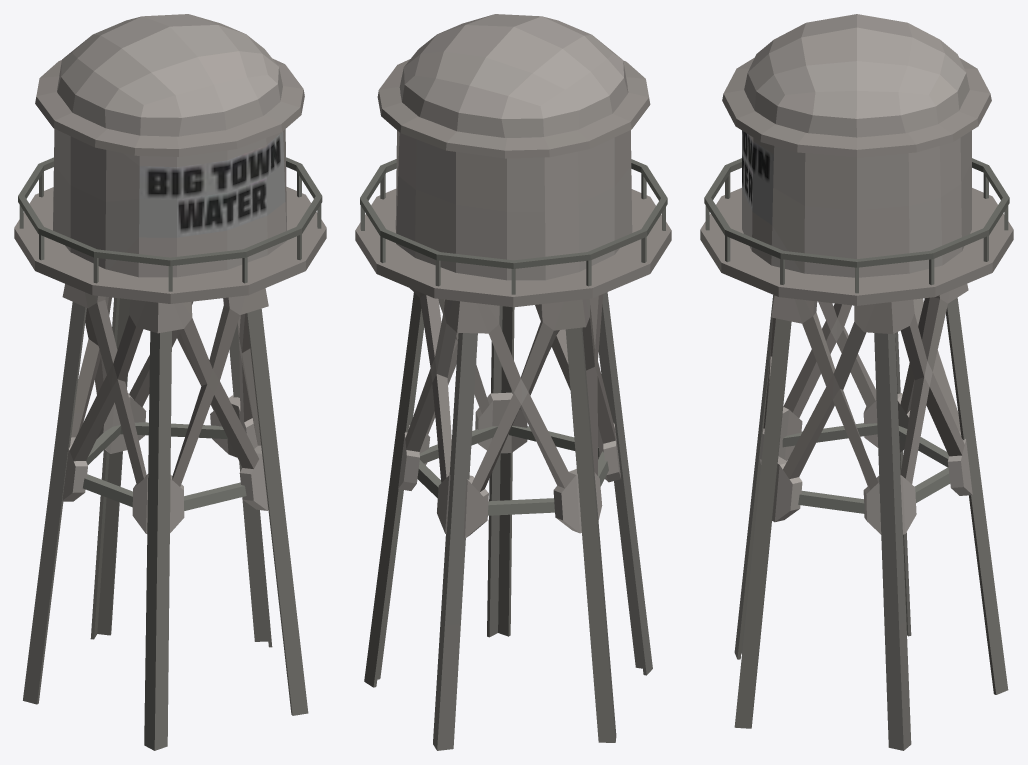
File: water-tower.glb
3 views of the same model, side by side, from view 1: azimuth 30°, elevation 25°; view 2: azimuth 150°, elevation 25°; view 3: azimuth 270°, elevation 25° (orthographic).
Visible parts, largest first — view 1: SM_Bld_Water_Tower_01; view 2: SM_Bld_Water_Tower_01; view 3: SM_Bld_Water_Tower_01.
Boxes of the visible parts, x1,y1,x2,y2 form: SM_Bld_Water_Tower_01: (14,14,326,750); SM_Bld_Water_Tower_01: (355,14,671,750); SM_Bld_Water_Tower_01: (700,14,1013,750).
Size of the model in its own units: 1576 by 3676 by 1576.
1 material, 1 textured.
